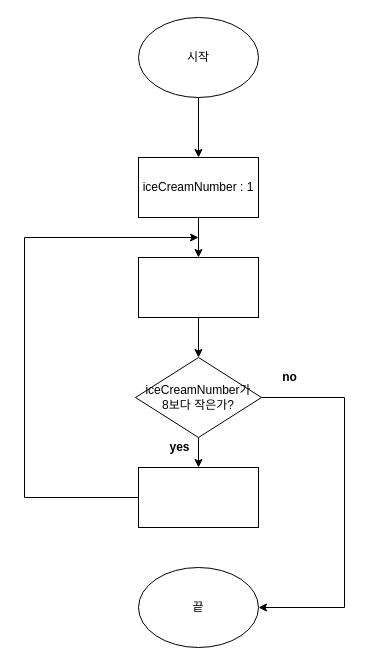
Image size: 370x665. Some labels were removed from this diagram. Each missing label, with the centre of its shape:
"***********" 출력: (x=198, y=287)
iceCreamNumber에 1을 더한다: (x=198, y=497)
